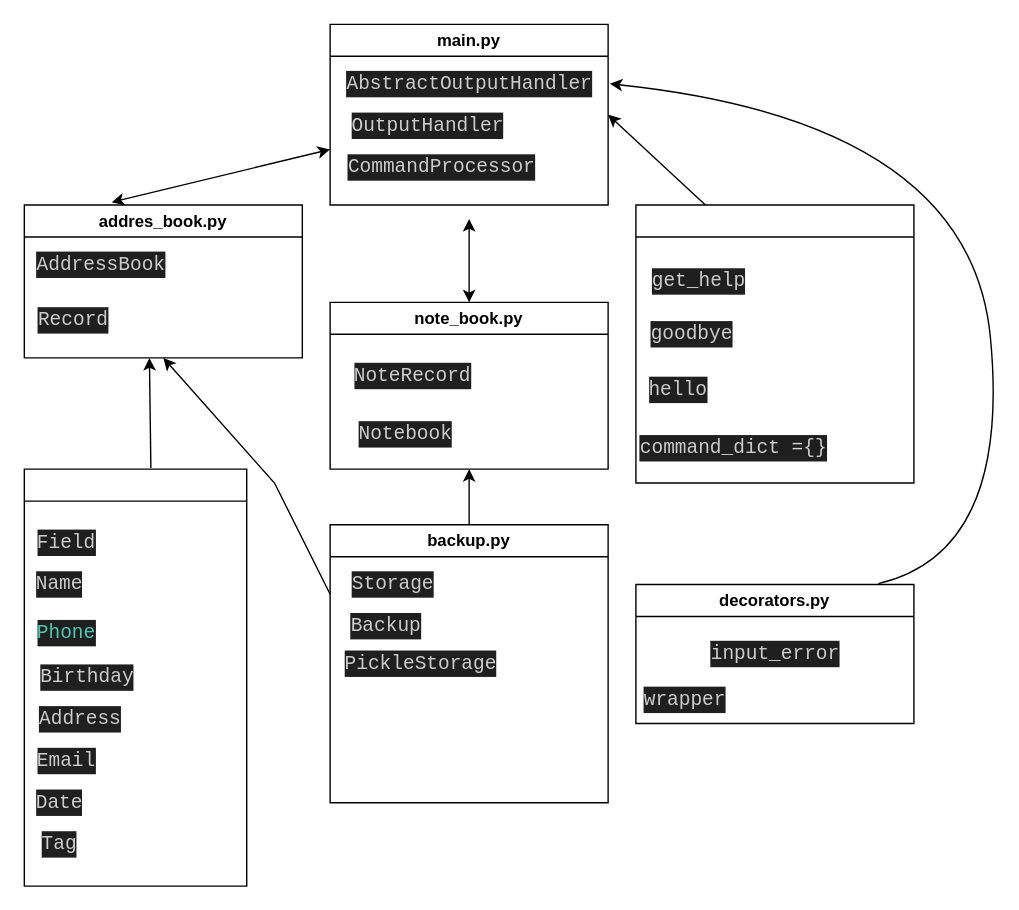
Some shapes in this 1019 by 910 pixel diagram are drawn without their labels. The shapes that lost their labels are listed below. From the top down, each one's box as (x1, y1, x2, y2) in pixels, then its label:
(635, 204, 914, 483): commands.py
(23, 468, 247, 886): fields_classes.py
